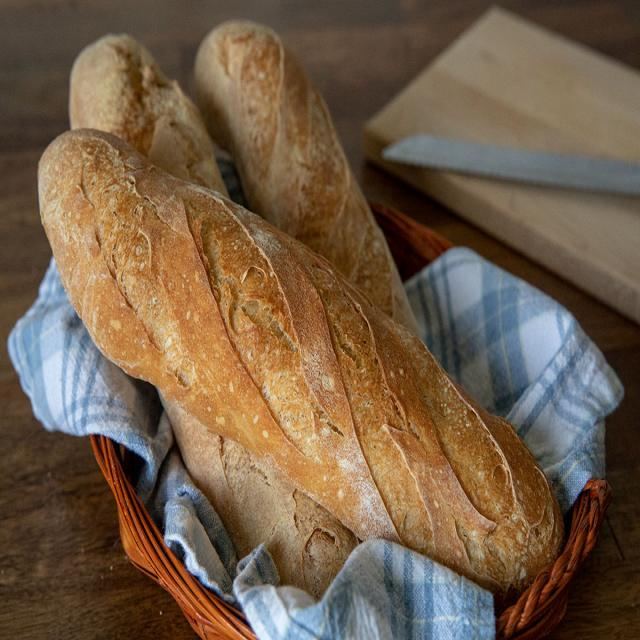Baguette: (39, 130, 515, 582), (194, 22, 414, 327), (162, 398, 359, 596), (69, 34, 228, 196)
